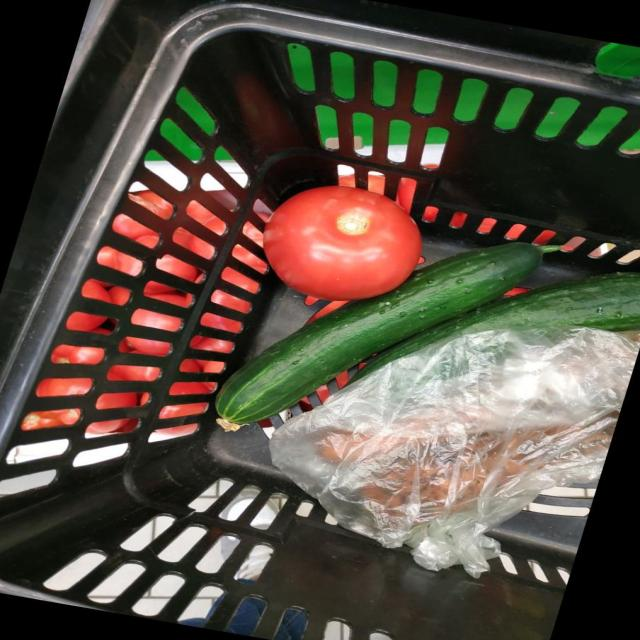Carrot: (418, 457, 485, 502)
Cucumber: (215, 241, 555, 430), (354, 272, 640, 379)
Tomatoes: (262, 185, 422, 300)
